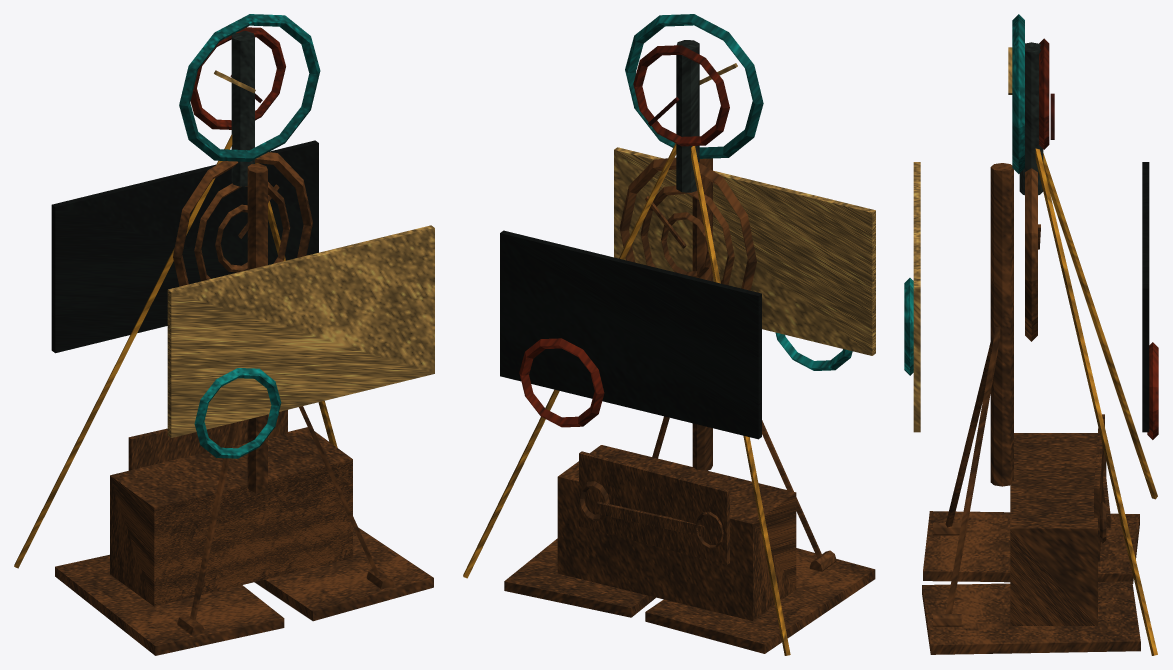
Rendered from mirror-observation-post.glb.
3 views of the same model, side by side, from view 1: azimuth 30°, elevation 25°; view 2: azimuth 150°, elevation 25°; view 3: azimuth 270°, elevation 25° (orthographic).
Parts seen in each view (by area): view 1: mirror-observation-post; view 2: mirror-observation-post; view 3: mirror-observation-post.
Boxes of the visible parts, <box> form: mirror-observation-post: <box>14,14,434,655</box>; mirror-observation-post: <box>463,14,875,655</box>; mirror-observation-post: <box>904,14,1158,655</box>.
Size of the model in its own units: 5.39 by 8.86 by 3.6.
Materials: 1 (1 with a texture image).
